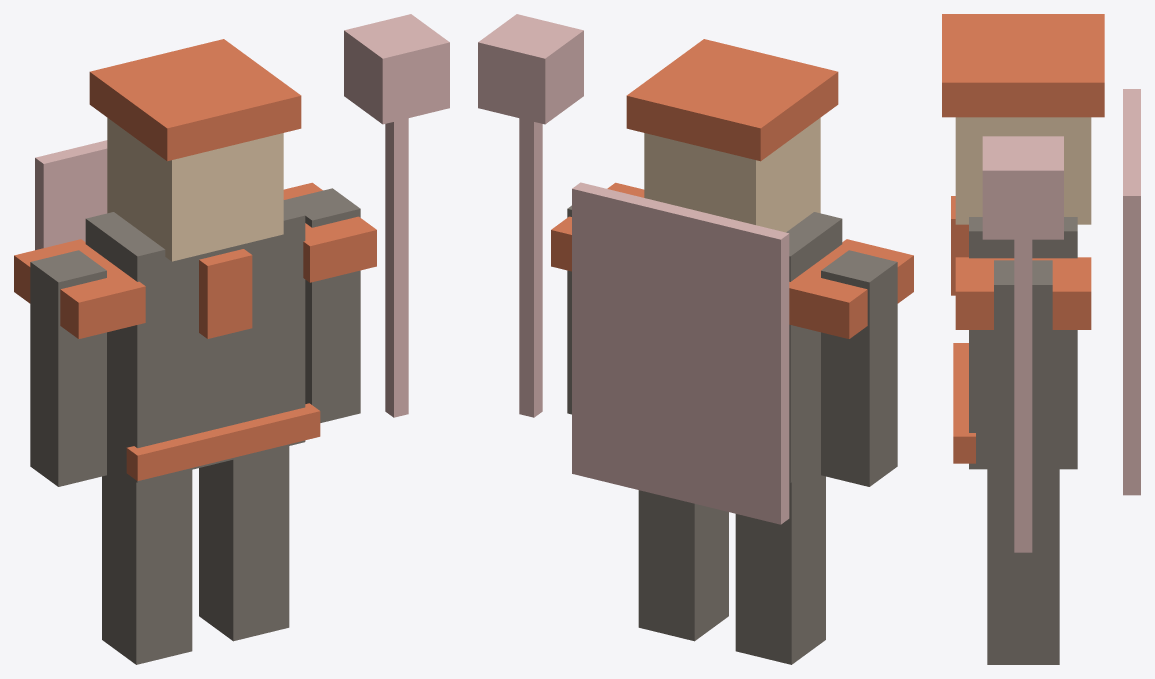
The model's file is 16_sarai_gantryn_runner_near_tuning.glb.
3 views of the same model, side by side, from view 1: azimuth 30°, elevation 25°; view 2: azimuth 150°, elevation 25°; view 3: azimuth 270°, elevation 25° (orthographic). The views are drawn at different scales.
Visible parts, largest first — view 1: Sarai Gantryn, Runner near Tuning; view 2: Sarai Gantryn, Runner near Tuning; view 3: Sarai Gantryn, Runner near Tuning.
Boxes of the visible parts, left/top/right/bottom form: Sarai Gantryn, Runner near Tuning: left=14, top=14, right=449, bottom=664; Sarai Gantryn, Runner near Tuning: left=478, top=14, right=913, bottom=664; Sarai Gantryn, Runner near Tuning: left=942, top=14, right=1140, bottom=664.
Size of the model in its own units: 1.14 by 1.55 by 0.4836.
